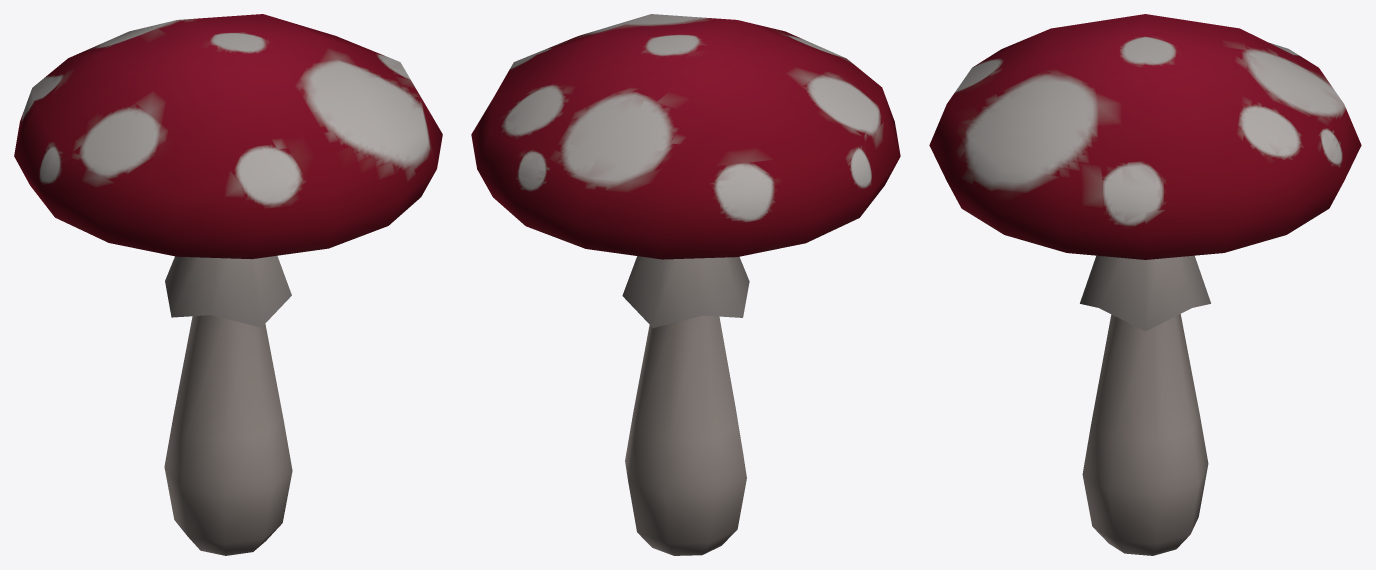
The model's file is prototype.glb.
3 views of the same model, side by side, from view 1: azimuth 30°, elevation 25°; view 2: azimuth 150°, elevation 25°; view 3: azimuth 270°, elevation 25° (orthographic).
Visible parts, largest first — view 1: Fly_Agaric_Basic_baked; view 2: Fly_Agaric_Basic_baked; view 3: Fly_Agaric_Basic_baked.
Part boxes in pixels (<box>): Fly_Agaric_Basic_baked: <box>14,14,442,555</box>; Fly_Agaric_Basic_baked: <box>471,14,900,555</box>; Fly_Agaric_Basic_baked: <box>929,14,1361,555</box>.
Size of the model in its own units: 0.7831 by 1 by 0.7831.
